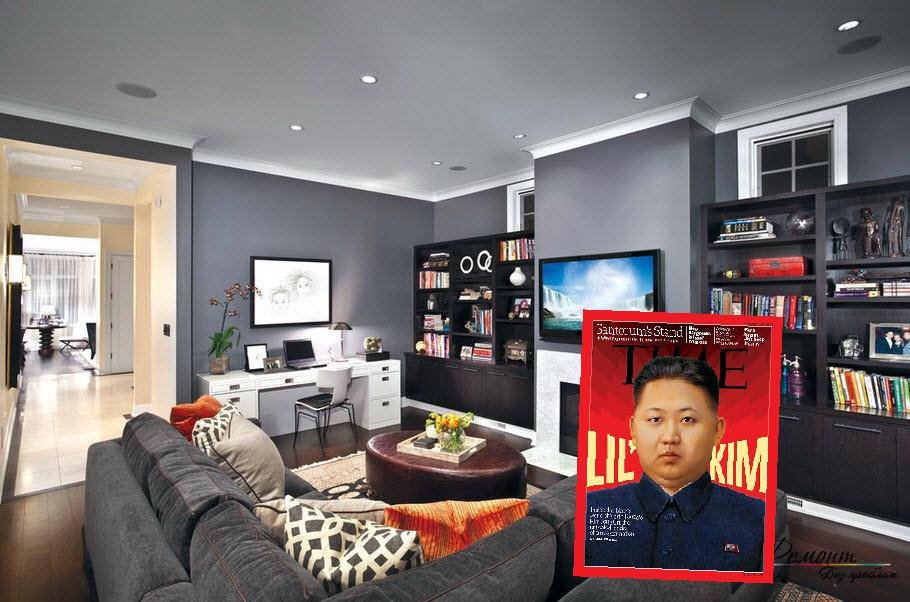times: (573, 307, 786, 583)
